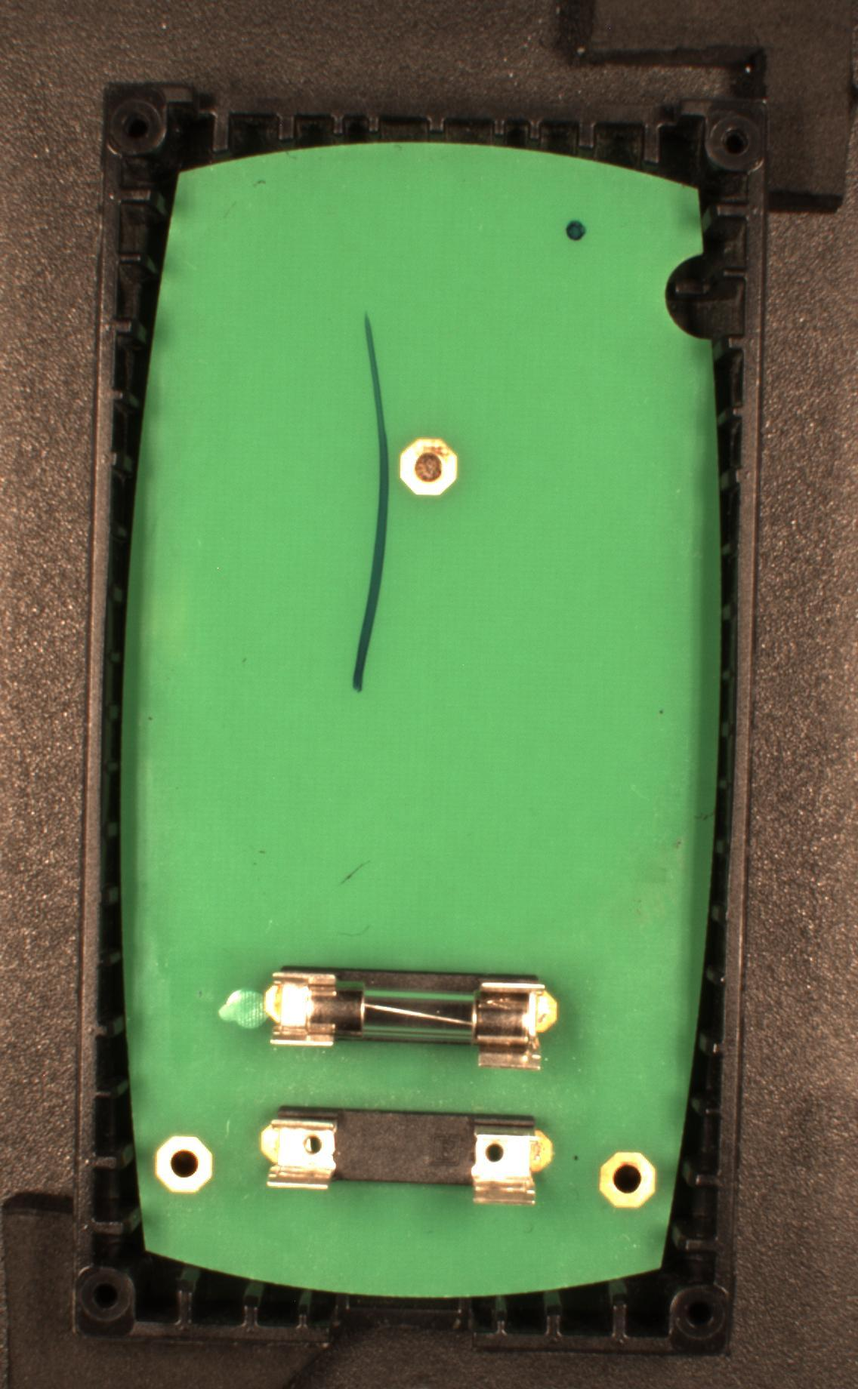Linijsko Ostecene: (349, 313, 390, 696)
Nepostojanje osiguraca: (258, 1102, 554, 1209)
Tockasto Ostecenje: (564, 218, 590, 242)
